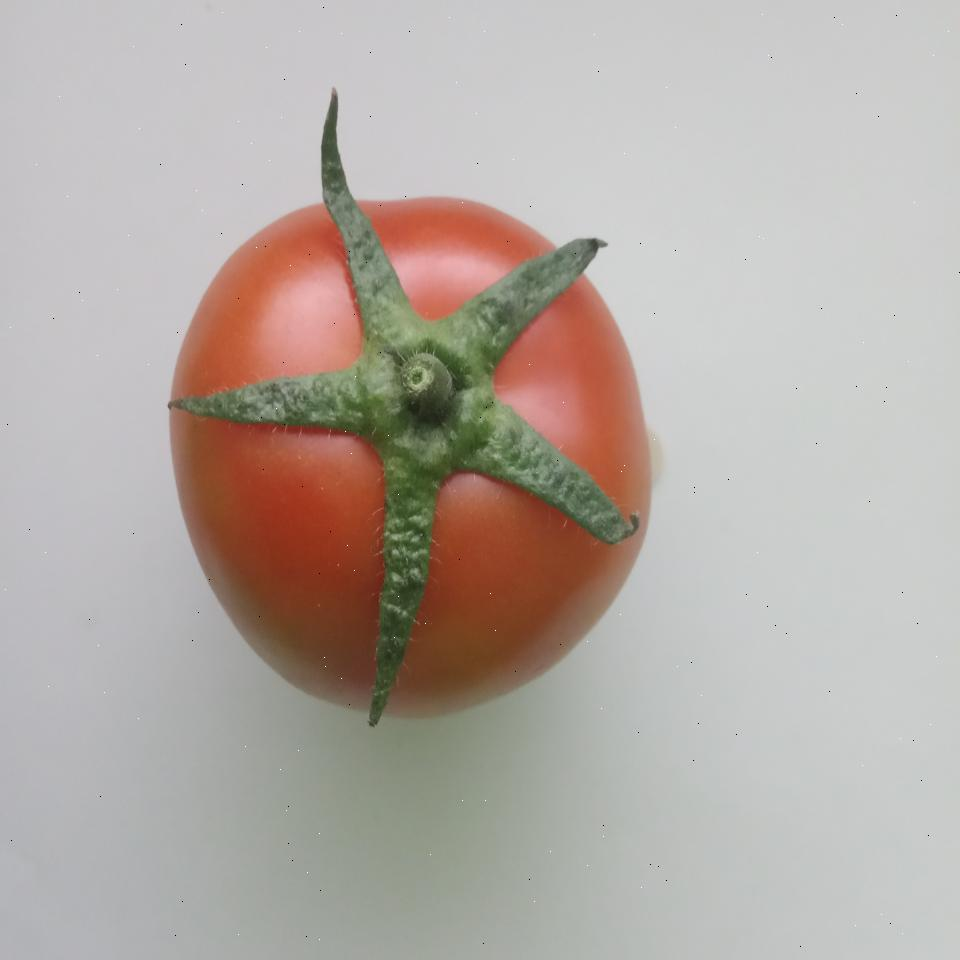Healthy: (150, 173, 668, 737)
